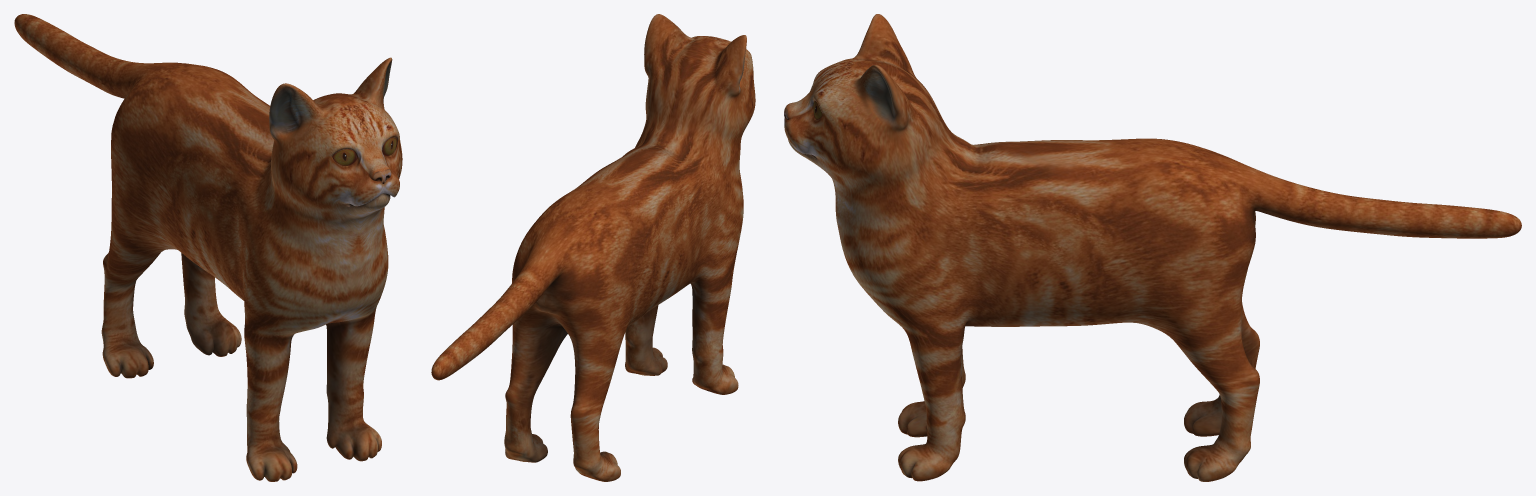
The model's file is cat.glb.
3 views of the same model, side by side, from view 1: azimuth 30°, elevation 25°; view 2: azimuth 150°, elevation 25°; view 3: azimuth 270°, elevation 25° (orthographic). The views are drawn at different scales.
Parts seen in each view (by area): view 1: 12221_Cat_v1_l3; view 2: 12221_Cat_v1_l3; view 3: 12221_Cat_v1_l3.
Boxes of the visible parts, x1=… form: 12221_Cat_v1_l3: x1=14, y1=14, x2=402, y2=481; 12221_Cat_v1_l3: x1=431, y1=14, x2=755, y2=481; 12221_Cat_v1_l3: x1=784, y1=14, x2=1521, y2=481.
Size of the model in its own units: 12.56 by 37.61 by 60.88.
Materials: 1 (1 with a texture image).
